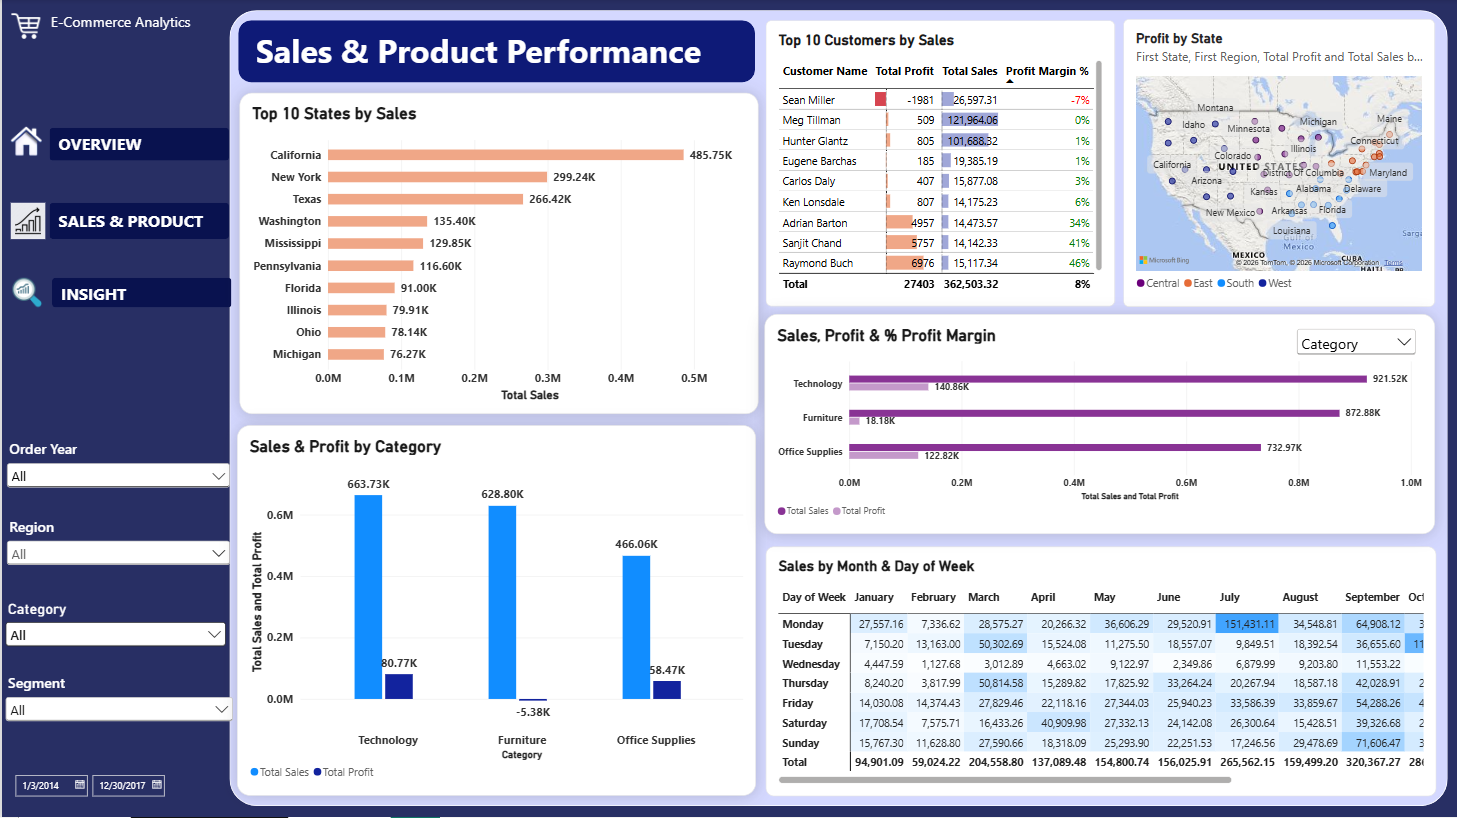

The dashboard page shown, as its layout file describes it:
{"tool":"powerbi","page":{"name":"Sales & Product","canvas":[1920,1080],"ordinal":1},"visuals":[{"type":"shape","box":[300,14.8,1607.4,1050],"z":0},{"type":"actionButton","box":[63,169.6,237,43.5],"z":1000},{"type":"shape","box":[312,28,682,82],"z":2000},{"type":"image","box":[2.2,160.9,60.9,52.2],"z":3000},{"type":"actionButton","box":[63,269.6,237,47.8],"z":4000},{"type":"image","box":[10.9,269.6,45.7,47.8],"z":5000},{"type":"actionButton","box":[65.2,367.4,237,39.1],"z":6000},{"type":"image","box":[2.2,367.4,63,39.1],"z":7000},{"type":"slicer","fields":{"Values":["Sheet1.Order Year"]},"box":[2.2,580.4,303.8,80.8],"z":8000},{"type":"slicer","fields":{"Values":["Sheet1.Region"]},"box":[2.2,682.6,303.8,78.8],"z":9000},{"type":"slicer","fields":{"Values":["Sheet1.Category"]},"box":[0,794,300,74],"z":10000},{"type":"slicer","fields":{"Values":["Sheet1.Segment"]},"box":[0,889.1,309.6,86.5],"z":11000},{"type":"textbox","box":[334,38,626.1,63],"z":12000},{"type":"shape","box":[352,160,590,142],"z":13000},{"type":"clusteredBarChart","title":"Top 10 States by Sales","fields":{"Category":["Sheet1.State"],"Y":["Sheet1.Total Sales"]},"box":[314,124,685.2,424.1],"z":14000},{"type":"clusteredColumnChart","title":"Sales & Profit by Category","fields":{"Category":["Sheet1.Category"],"Y":["Sheet1.Total Sales","Sheet1.Total Profit"]},"box":[309.3,563,685.2,488.9],"z":15000},{"type":"tableEx","title":"Top 10 Customers by Sales","fields":{"Values":["Sheet1.Customer Name","Sheet1.Total Profit","Sheet1.Total Sales","Sheet1.Profit Margin %"]},"box":[1007.4,27.8,461.1,377.8],"z":17000},{"type":"pivotTable","title":"Sales by Month & Day of Week","fields":{"Columns":["Sheet1.Order Month"],"Rows":["Sheet1.Day of Week"],"Values":["Sheet1.Total Sales"]},"box":[1007.4,722.2,885.2,329.6],"z":19000},{"type":"map","title":"Profit by State","fields":{"Category":["Sheet1.State"],"Series":["Sheet1.Region"]},"box":[1480,26,411.1,379.6],"z":20000},{"type":"slicer","fields":{"Values":["Sheet1.Order Date"]},"box":[10,1020,238,60],"z":21000},{"type":"image","box":[8,16,46.8,38.3],"z":22000},{"type":"clusteredBarChart","title":"Sales, Profit & % Profit Margin","fields":{"Category":["Sheet1.Category"],"Y":["Sheet1.Total Sales","Sheet1.Total Profit"]},"box":[1006,416,885.2,290.7],"z":22500},{"type":"textbox","box":[64,16,236,40],"z":23000},{"type":"slicer","fields":{"Values":["Parameter.Parameter"]},"box":[1704,430,166.7,53.7],"z":24000}]}

Visuals, with their boxes on the page's 1920x1080 design canvas (x1, y1, x2, y2). These are canvas units, not pixel positions in the 1457x818 screenshot, which may show the page scaled, cropped or inside an application window:
shape: x1=300, y1=15, x2=1907, y2=1065
actionButton: x1=63, y1=170, x2=300, y2=213
shape: x1=312, y1=28, x2=994, y2=110
image: x1=2, y1=161, x2=63, y2=213
actionButton: x1=63, y1=270, x2=300, y2=317
image: x1=11, y1=270, x2=57, y2=317
actionButton: x1=65, y1=367, x2=302, y2=406
image: x1=2, y1=367, x2=65, y2=406
slicer - Sheet1.Order Year: x1=2, y1=580, x2=306, y2=661
slicer - Sheet1.Region: x1=2, y1=683, x2=306, y2=761
slicer - Sheet1.Category: x1=0, y1=794, x2=300, y2=868
slicer - Sheet1.Segment: x1=0, y1=889, x2=310, y2=976
textbox: x1=334, y1=38, x2=960, y2=101
shape: x1=352, y1=160, x2=942, y2=302
"Top 10 States by Sales" clusteredBarChart: x1=314, y1=124, x2=999, y2=548
"Sales & Profit by Category" clusteredColumnChart: x1=309, y1=563, x2=994, y2=1052
"Top 10 Customers by Sales" tableEx: x1=1007, y1=28, x2=1468, y2=406
"Sales by Month & Day of Week" pivotTable: x1=1007, y1=722, x2=1893, y2=1052
"Profit by State" map: x1=1480, y1=26, x2=1891, y2=406
slicer - Sheet1.Order Date: x1=10, y1=1020, x2=248, y2=1080
image: x1=8, y1=16, x2=55, y2=54
"Sales, Profit & % Profit Margin" clusteredBarChart: x1=1006, y1=416, x2=1891, y2=707
textbox: x1=64, y1=16, x2=300, y2=56
slicer - Parameter.Parameter: x1=1704, y1=430, x2=1871, y2=484
